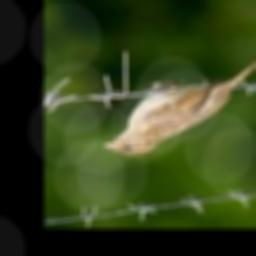Sparrow: (102, 59, 256, 156)
